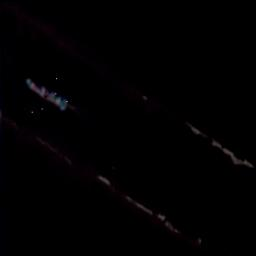boat: (25, 70, 71, 114)
